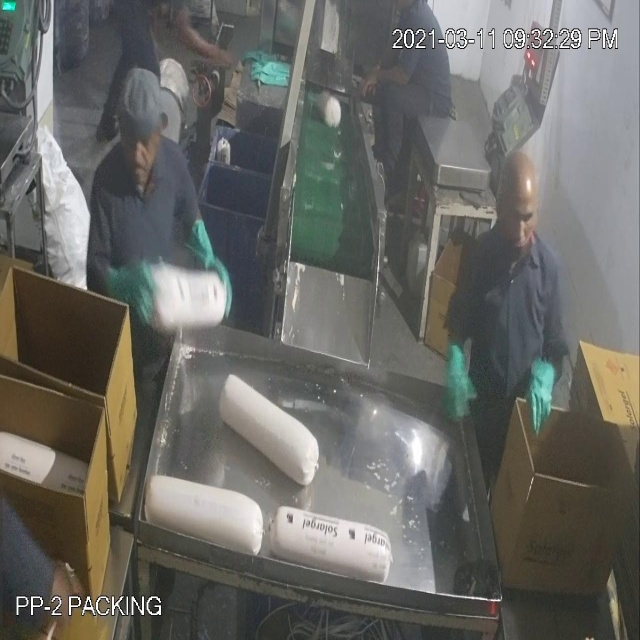Guantes: (434, 317, 480, 426), (515, 345, 558, 431)
Sin_guantes: (176, 4, 241, 82), (360, 48, 408, 110)
